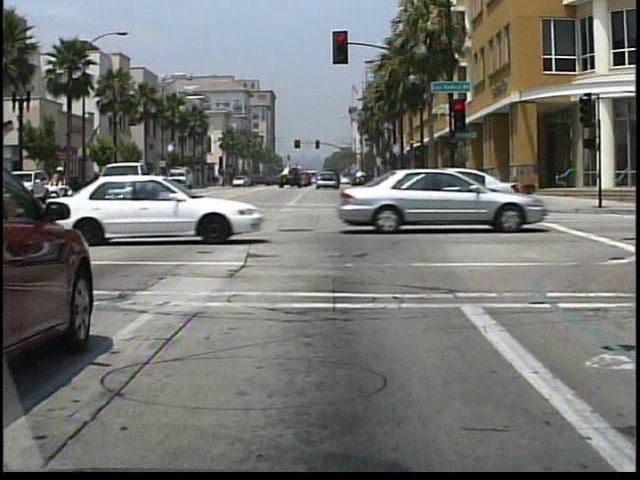person: (47, 164, 71, 213)
